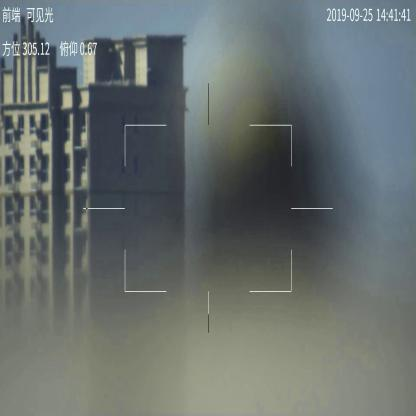uav: (170, 206, 188, 230)
